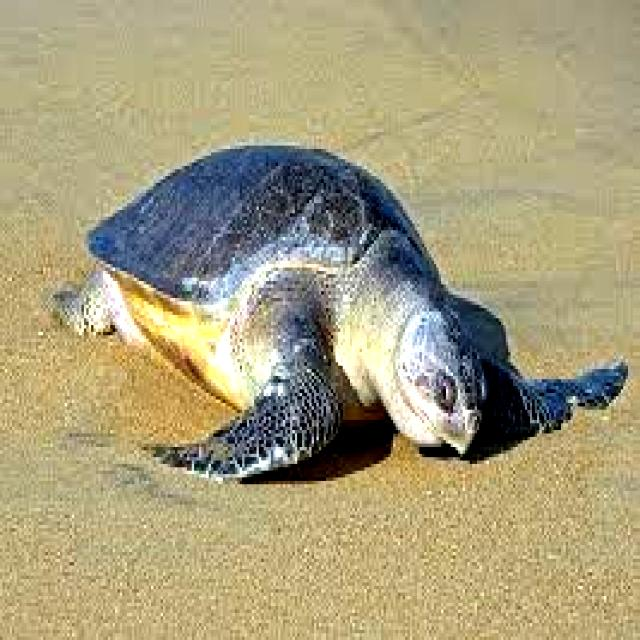Sea turtle: (48, 140, 631, 486)
